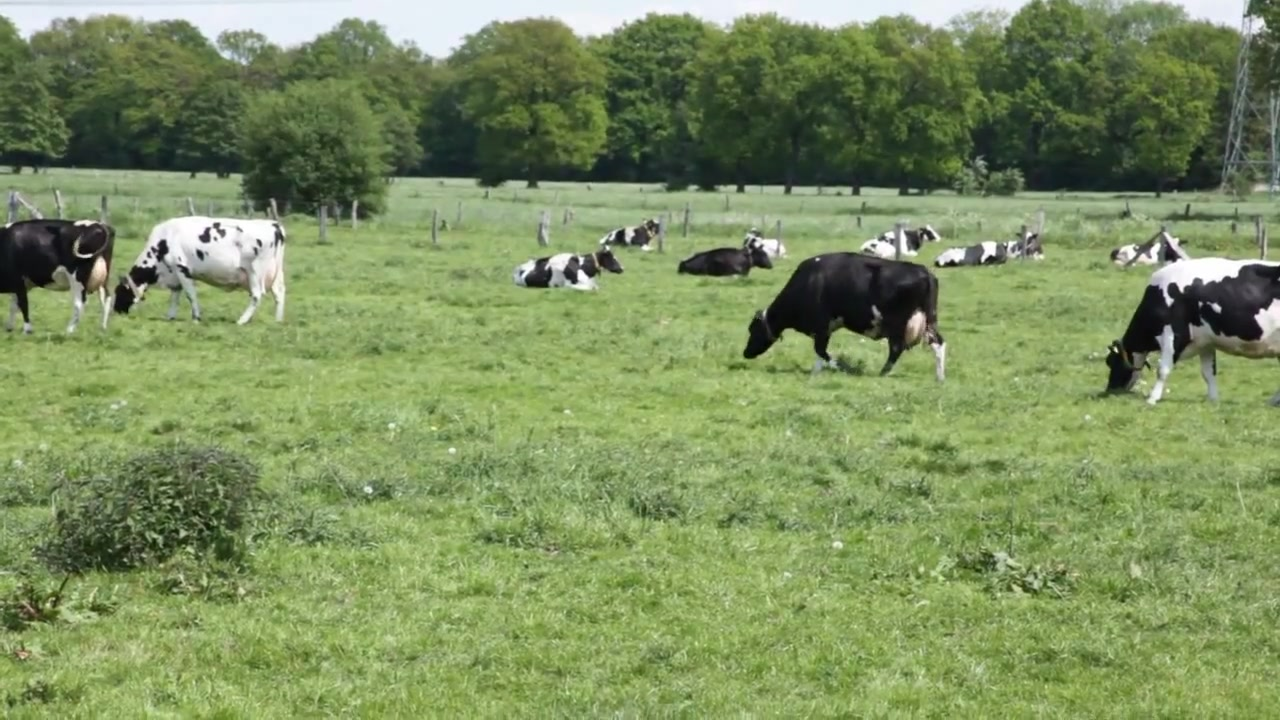cow: (113, 218, 293, 326)
